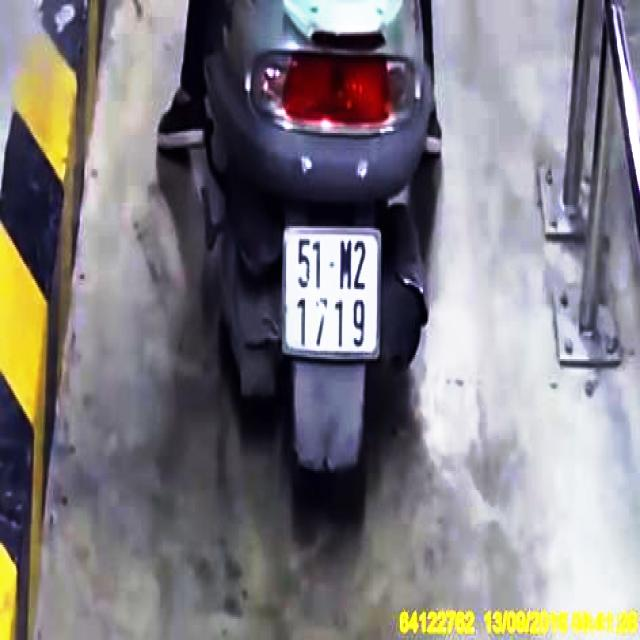license_plate: (285, 231, 383, 359)
